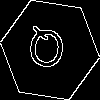Q: (25, 25, 67, 78)
